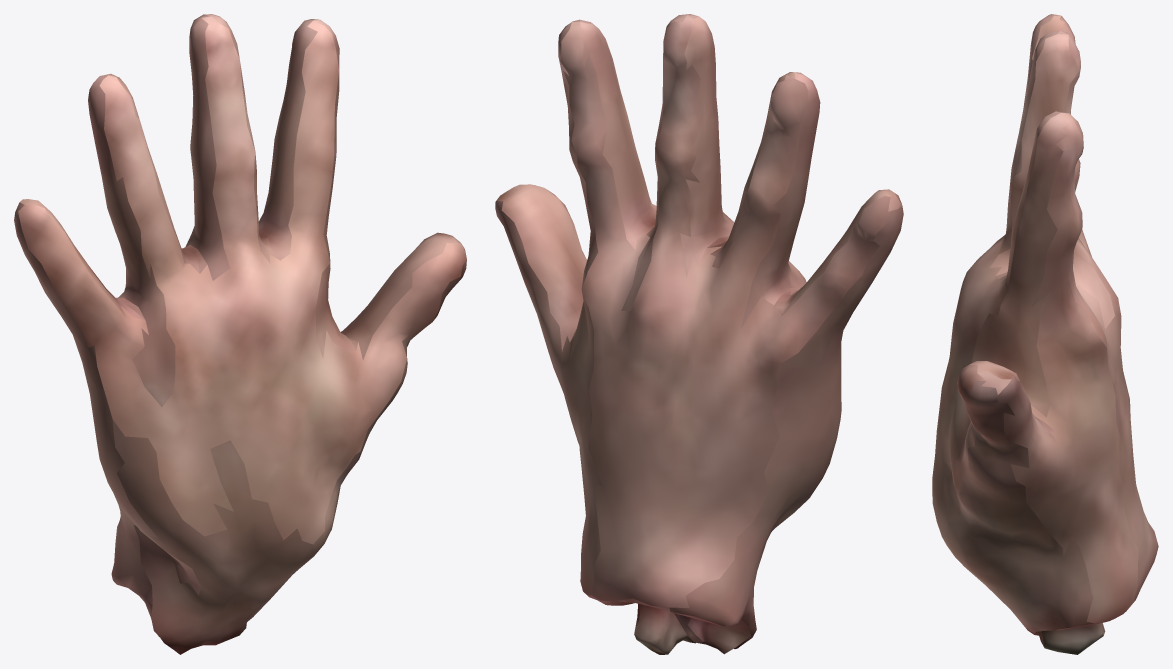
Rendered from hand.glb.
3 views of the same model, side by side, from view 1: azimuth 30°, elevation 25°; view 2: azimuth 150°, elevation 25°; view 3: azimuth 270°, elevation 25° (orthographic). The views are drawn at different scales.
Visible parts, largest first — view 1: geometry_0; view 2: geometry_0; view 3: geometry_0.
Boxes of the visible parts, <box> form: geometry_0: <box>14,14,466,654</box>; geometry_0: <box>495,14,903,654</box>; geometry_0: <box>932,14,1158,654</box>.
Bounding box in the file's own units: 0.22 × 0.314 × 0.1053.
Materials: 1 (1 with a texture image).
